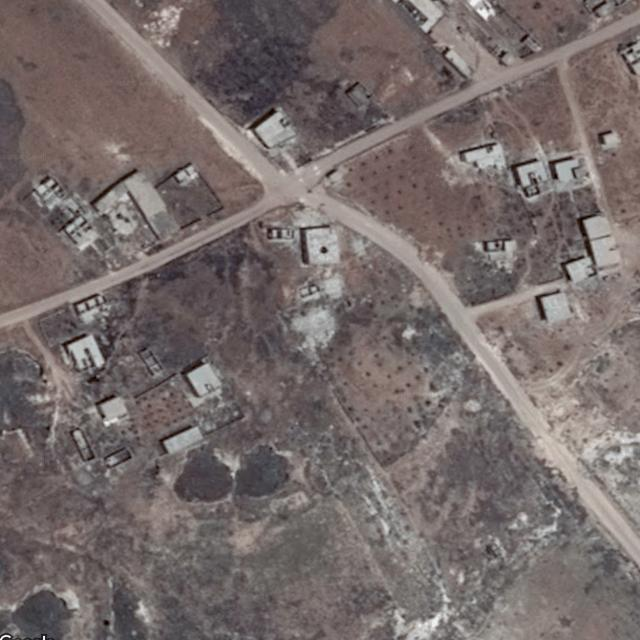damaged_building: (291, 306, 338, 356)
